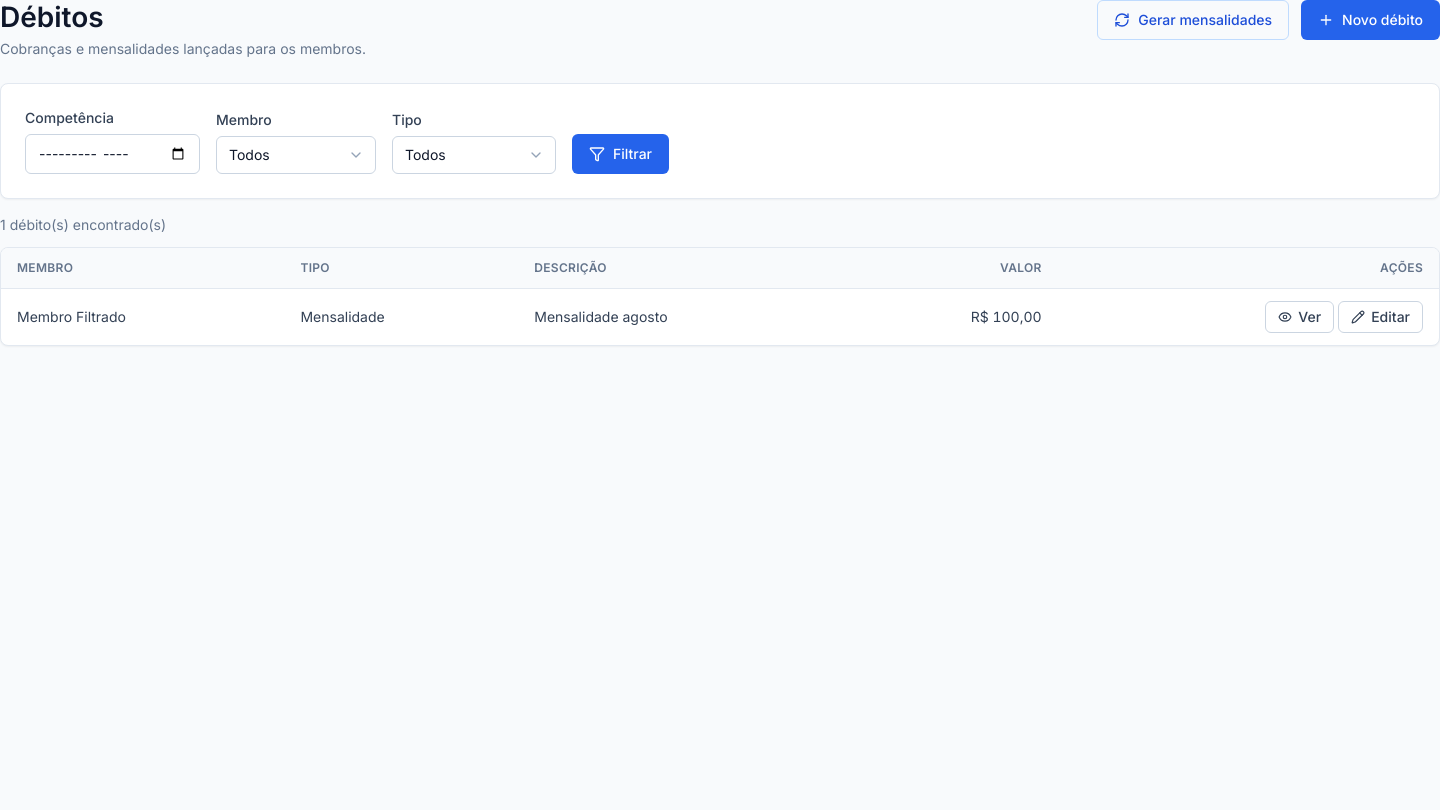
it: DebitosListPage — gerar mensalidades › mostra no modal a prévia dos itens recorrentes ativos e o total por irmão
This screenshot has width=1440, height=810.
Expected: the text "Mensalidade agosto" is shown, [518,288,851,345]
Type "2026-08" into the field labelled "Competência" at (112, 154), box [25,134,200,174]
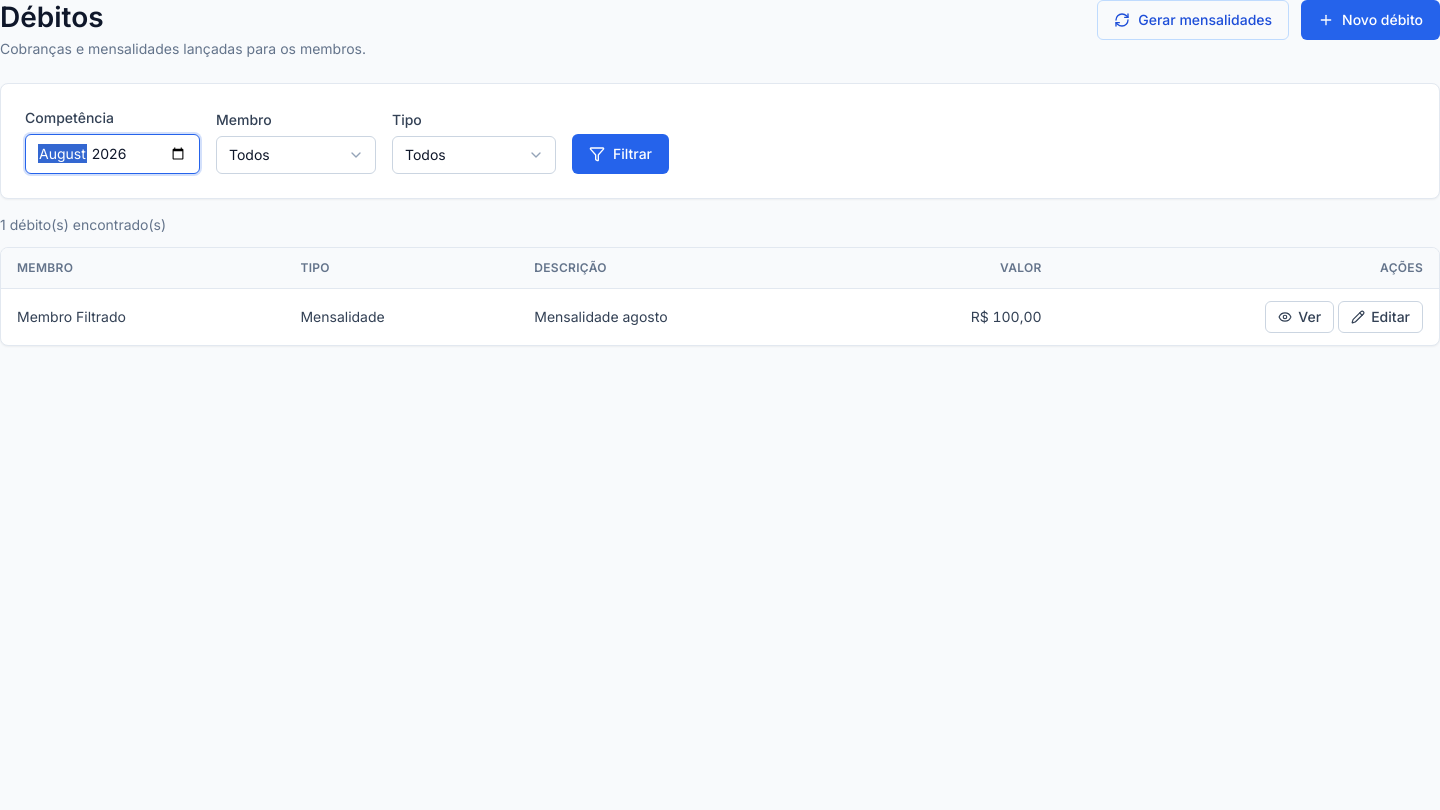
Click the button "Gerar mensalidades" at (1193, 20), box [1097,0,1289,40]
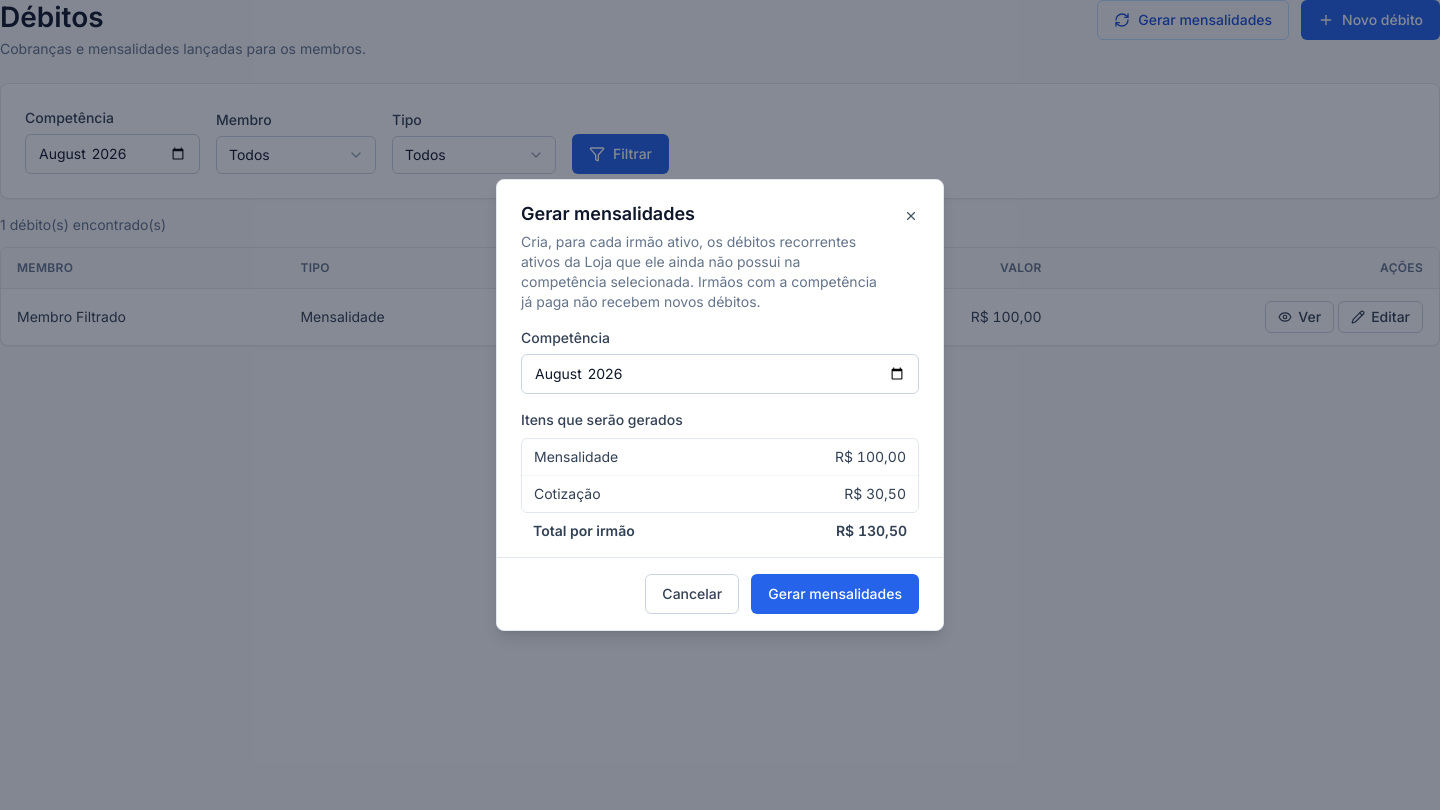
Expected: the text "Cotização" is shown, [534,484,601,504]
Expected: the text "Mensalidade" is shown, [534,447,618,467]
